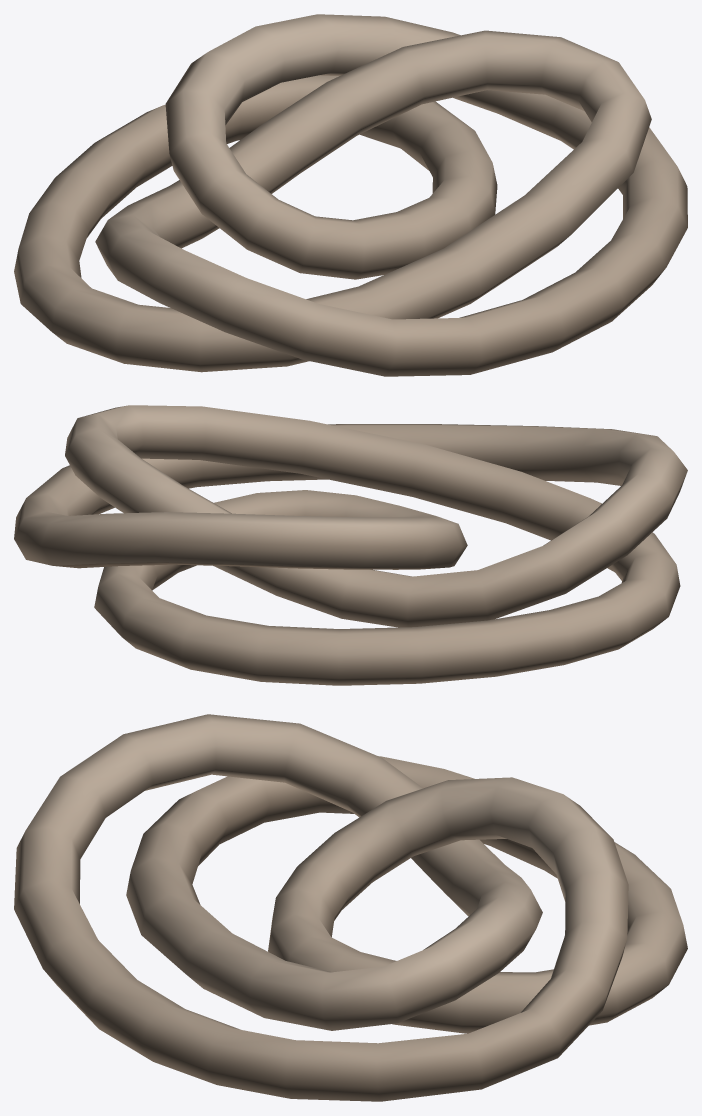
File: rope_bundle_B.glb
3 views of the same model, one above another, from view 1: azimuth 30°, elevation 25°; view 2: azimuth 150°, elevation 25°; view 3: azimuth 270°, elevation 25° (orthographic). The views are drawn at different scales.
Parts seen in each view (by area): view 1: rope_bundle_B; view 2: rope_bundle_B; view 3: rope_bundle_B.
Boxes of the visible parts, x1,y1,x2,y2 form: rope_bundle_B: (14,14,687,376); rope_bundle_B: (14,405,687,685); rope_bundle_B: (14,714,687,1101).
Bounding box in the file's own units: 1.06 × 0.2329 × 0.954.
1 material, 1 textured.
